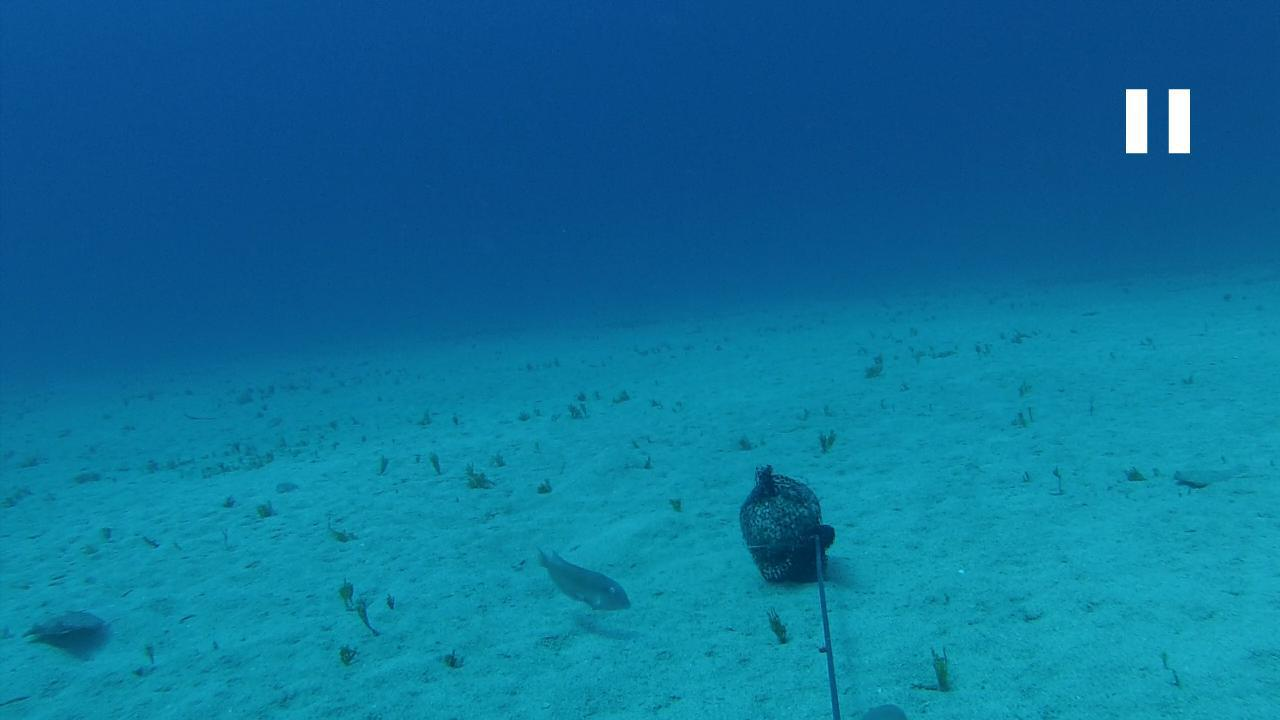bothus: (18, 606, 110, 650), (1177, 459, 1247, 488)
raor: (530, 544, 634, 620)
